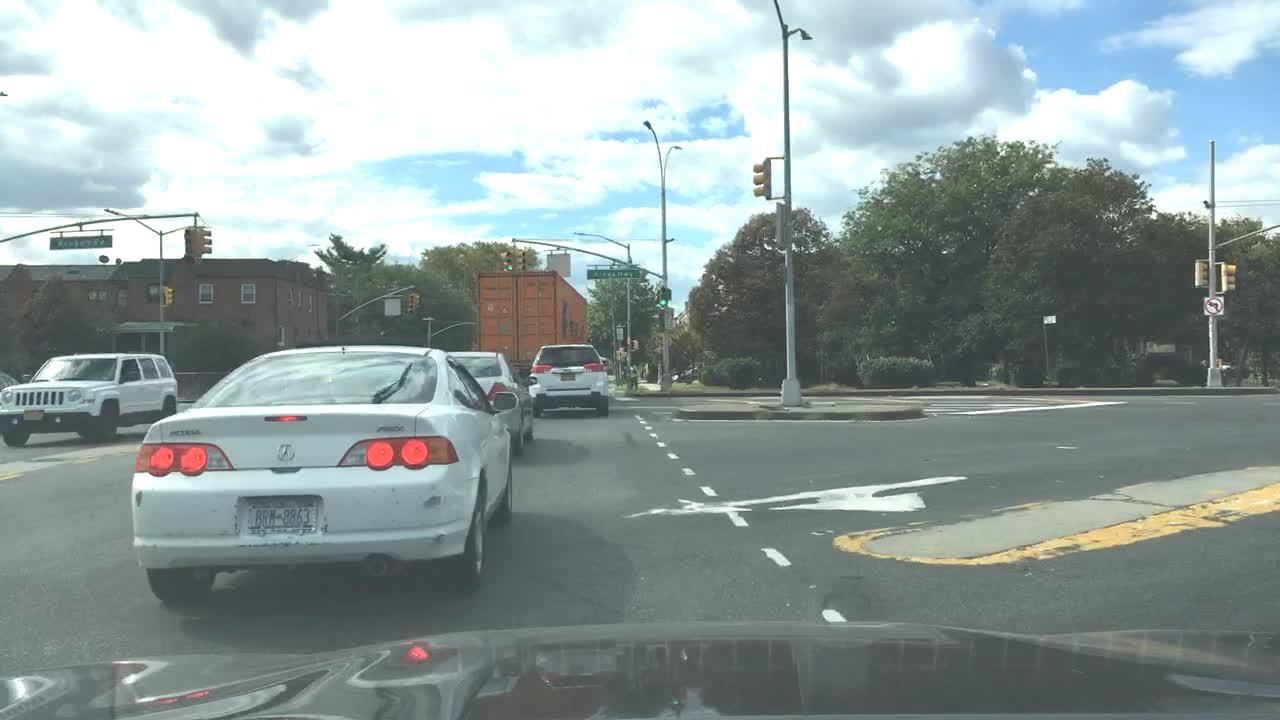acura: (267, 434, 308, 470)
